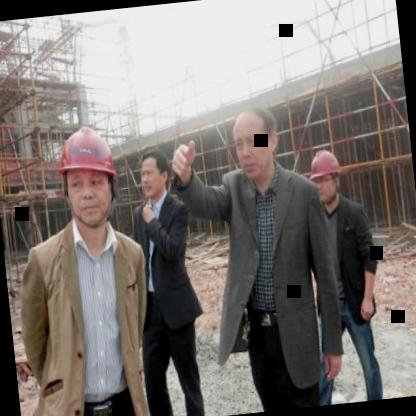head: (226, 98, 282, 183), (136, 146, 172, 204)
helmet: (50, 123, 121, 233), (308, 146, 346, 206)
